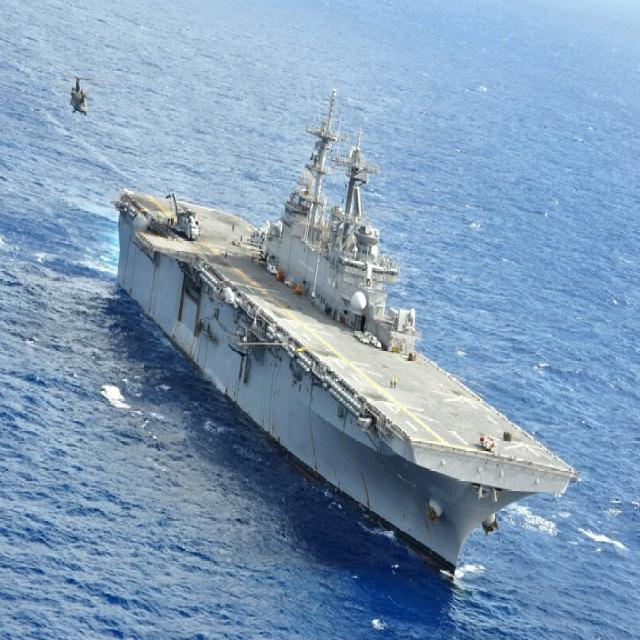navalvessels: (99, 0, 559, 596)
